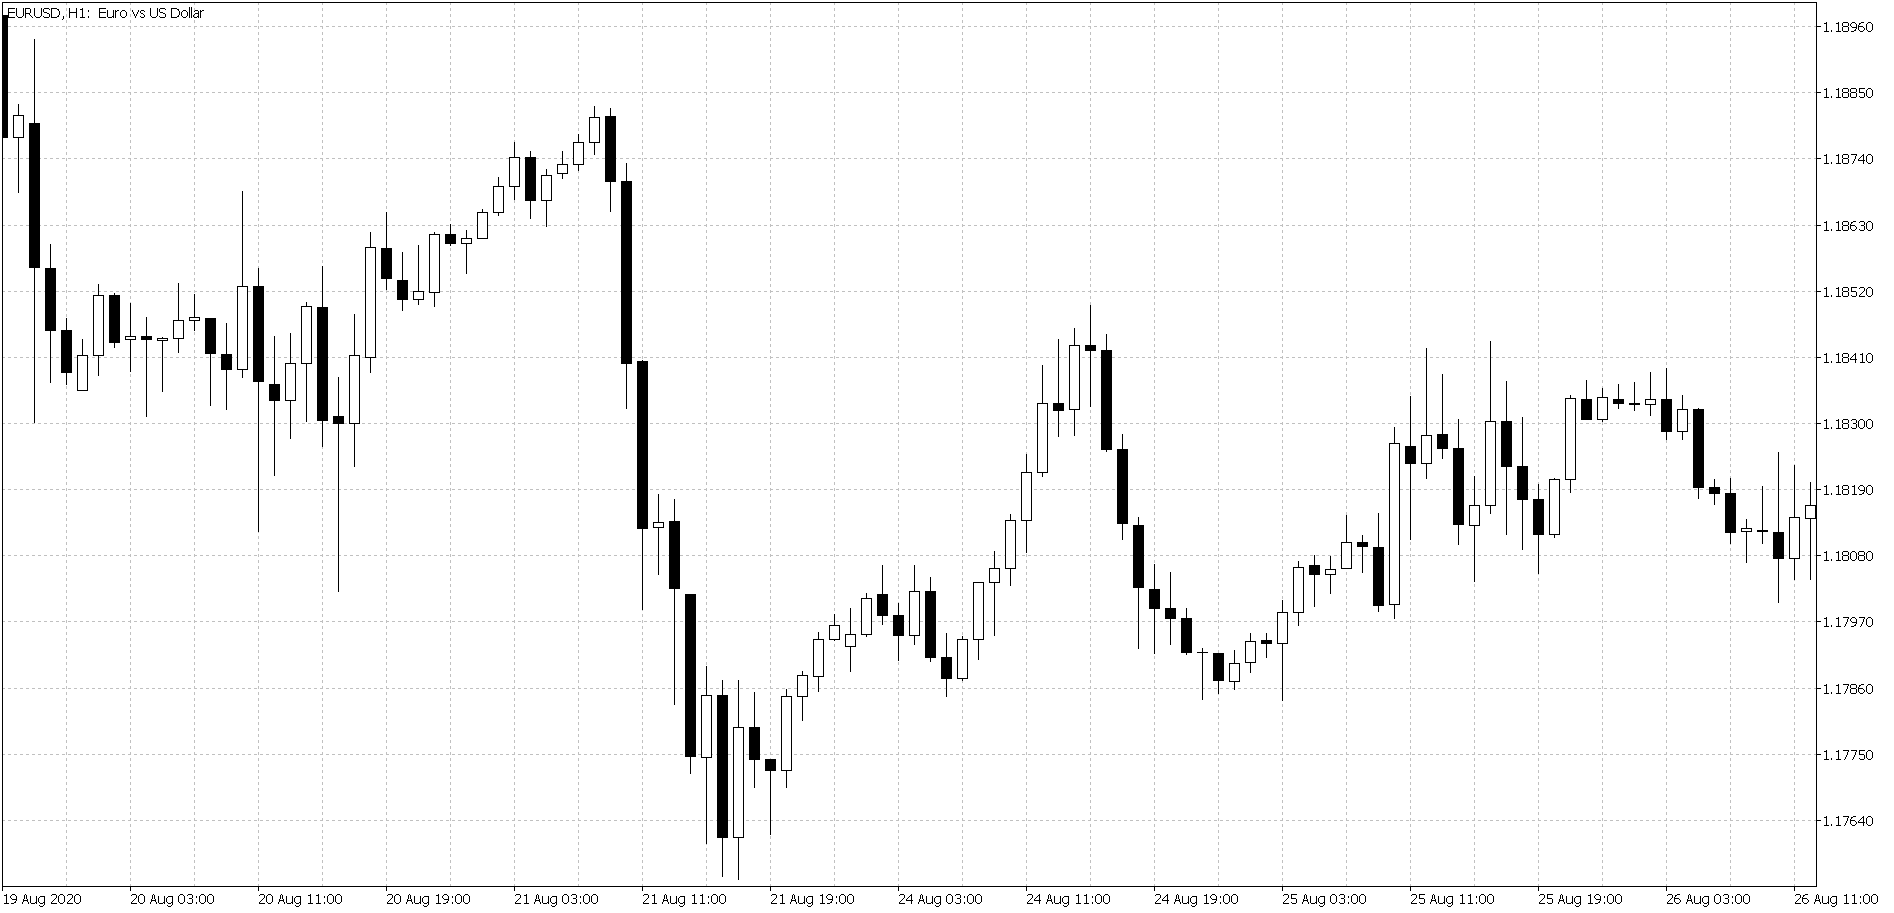3blackcrows: (1499, 373, 1546, 575)
3whitesoldiers: (1003, 360, 1050, 589)
bearishEngulfing: (587, 101, 618, 213), (907, 576, 939, 667)
bullishEngulfing: (1370, 423, 1402, 622)
eveningStar: (1067, 315, 1115, 456)
hangingMan: (763, 754, 778, 833)
